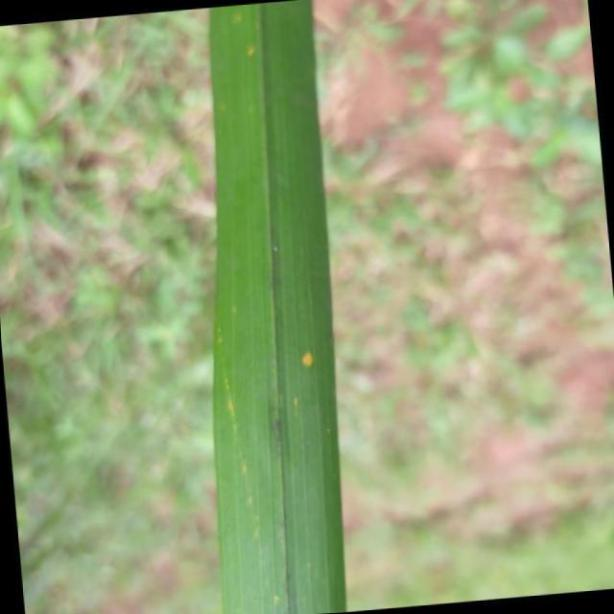Kalium: (207, 3, 349, 614)
